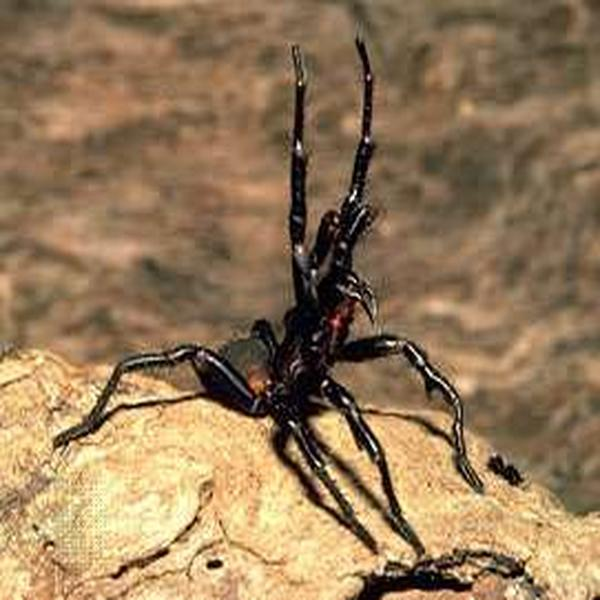Funnel Web Spider: (81, 49, 474, 544)
